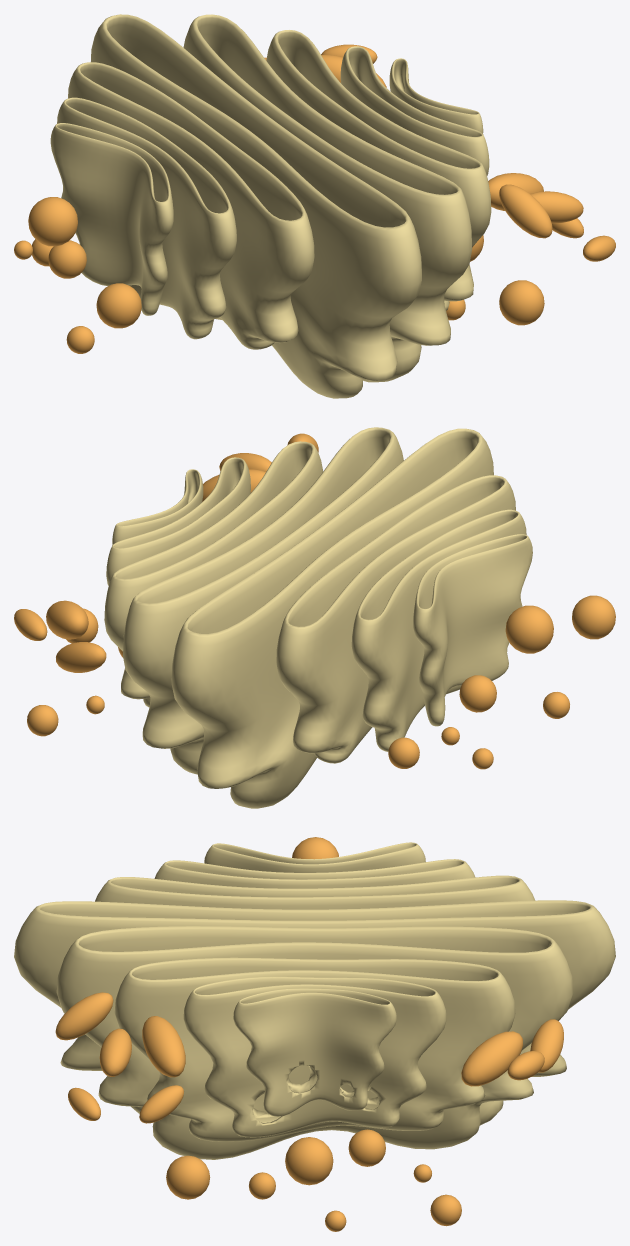
File: golgi.glb
3 views of the same model, one above another, from view 1: azimuth 30°, elevation 25°; view 2: azimuth 150°, elevation 25°; view 3: azimuth 270°, elevation 25° (orthographic). The views are drawn at different scales.
Visible parts, largest first — view 1: Cisterna.4, Cisterna.5, Cisterna.3, Cisterna.1, Cisterna.2, Cisterna.6, Cisterna.7, Cisterna.8, TransportVesicle.03, SecretoryVesicle.01, TransportVesicle.01, SecretoryVesicle.06 (+5 smaller); view 2: Cisterna.4, Cisterna.3, Cisterna.5, Cisterna.1, Cisterna.2, Cisterna.6, Cisterna.7, Cisterna.8, TransportVesicle.03, TransportVesicle.01, SecretoryVesicle.13, SecretoryVesicle.15 (+5 smaller); view 3: Cisterna.5, Cisterna.6, Cisterna.4, Cisterna.7, Cisterna.8, Cisterna.3, Cisterna.2, Cisterna.1, SecretoryVesicle.13, SecretoryVesicle.05, SecretoryVesicle.08, SecretoryVesicle.01 (+10 smaller).
Part boxes in pixels (box(x1,y1,x2,y2)): Cisterna.4: box(91, 14, 421, 398); Cisterna.5: box(183, 14, 472, 382); Cisterna.3: box(68, 62, 314, 349); Cisterna.1: box(50, 123, 173, 315); Cisterna.2: box(57, 97, 236, 339); Cisterna.6: box(266, 30, 491, 310); Cisterna.7: box(340, 46, 489, 175); Cisterna.8: box(389, 58, 483, 133); TransportVesicle.03: box(28, 197, 77, 246); SecretoryVesicle.01: box(499, 184, 552, 238); TransportVesicle.01: box(96, 283, 141, 328); SecretoryVesicle.06: box(499, 280, 544, 325); Cisterna.4: box(171, 428, 493, 808); Cisterna.3: box(276, 475, 515, 763); Cisterna.5: box(123, 427, 403, 774); Cisterna.1: box(413, 534, 532, 726); Cisterna.2: box(351, 509, 526, 751); Cisterna.6: box(104, 441, 322, 707); Cisterna.7: box(106, 457, 250, 585); Cisterna.8: box(112, 469, 203, 544); TransportVesicle.03: box(505, 605, 553, 653); TransportVesicle.01: box(572, 595, 615, 639); SecretoryVesicle.13: box(46, 600, 88, 639); SecretoryVesicle.15: box(56, 642, 106, 672); Cisterna.5: box(56, 926, 573, 1159); Cisterna.6: box(114, 957, 515, 1141); Cisterna.4: box(14, 900, 615, 1125); Cisterna.7: box(183, 976, 446, 1137); Cisterna.8: box(233, 988, 396, 1116); Cisterna.3: box(95, 875, 535, 909); Cisterna.2: box(154, 859, 475, 888); Cisterna.1: box(204, 842, 425, 872); SecretoryVesicle.13: box(461, 1031, 523, 1086); SecretoryVesicle.05: box(142, 1016, 185, 1077); SecretoryVesicle.08: box(285, 1137, 333, 1185); SecretoryVesicle.01: box(55, 992, 113, 1040).
Size of the model in its own units: 2.56 by 1.31 by 2.91.
